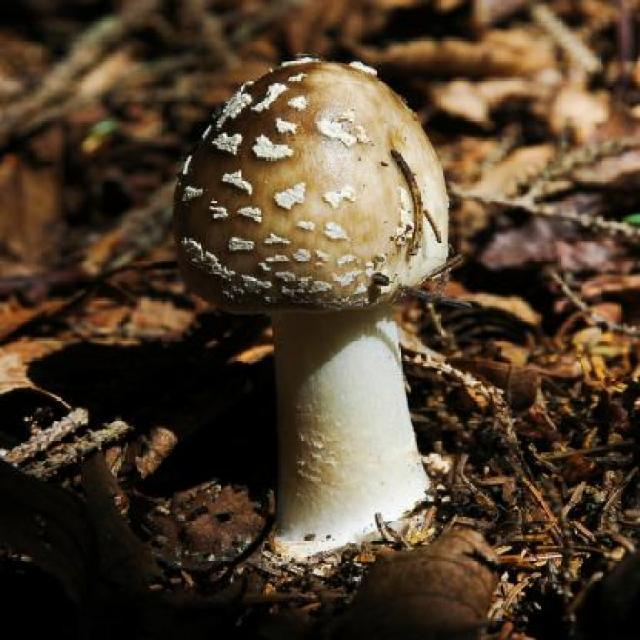Mushroom: (168, 53, 472, 578)
